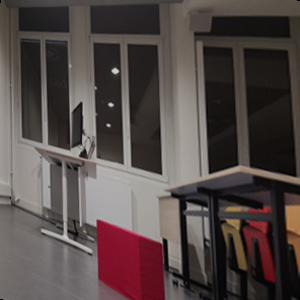medium: (93, 217, 167, 300)
